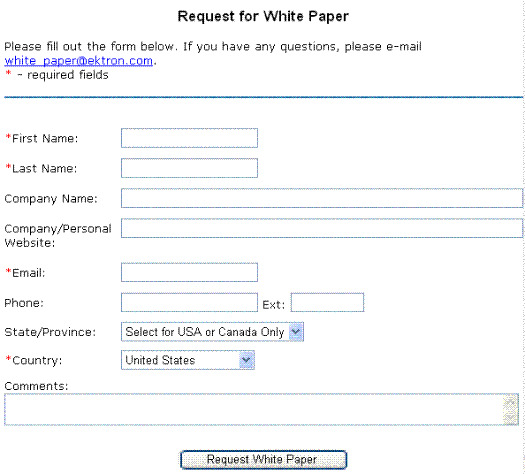_form_: (1, 113, 525, 474)
button: (179, 449, 348, 471)
field: (2, 392, 520, 427), (119, 217, 525, 239), (119, 187, 525, 208), (120, 321, 305, 343), (119, 158, 260, 179), (118, 262, 259, 283), (118, 292, 259, 313), (119, 128, 259, 149), (120, 349, 256, 370), (288, 292, 365, 313)
field_with_label: (5, 217, 525, 250), (4, 186, 525, 210), (4, 320, 307, 344), (5, 260, 261, 284), (5, 291, 260, 315), (5, 157, 262, 180), (5, 126, 260, 149), (3, 348, 258, 371), (262, 291, 367, 315)
